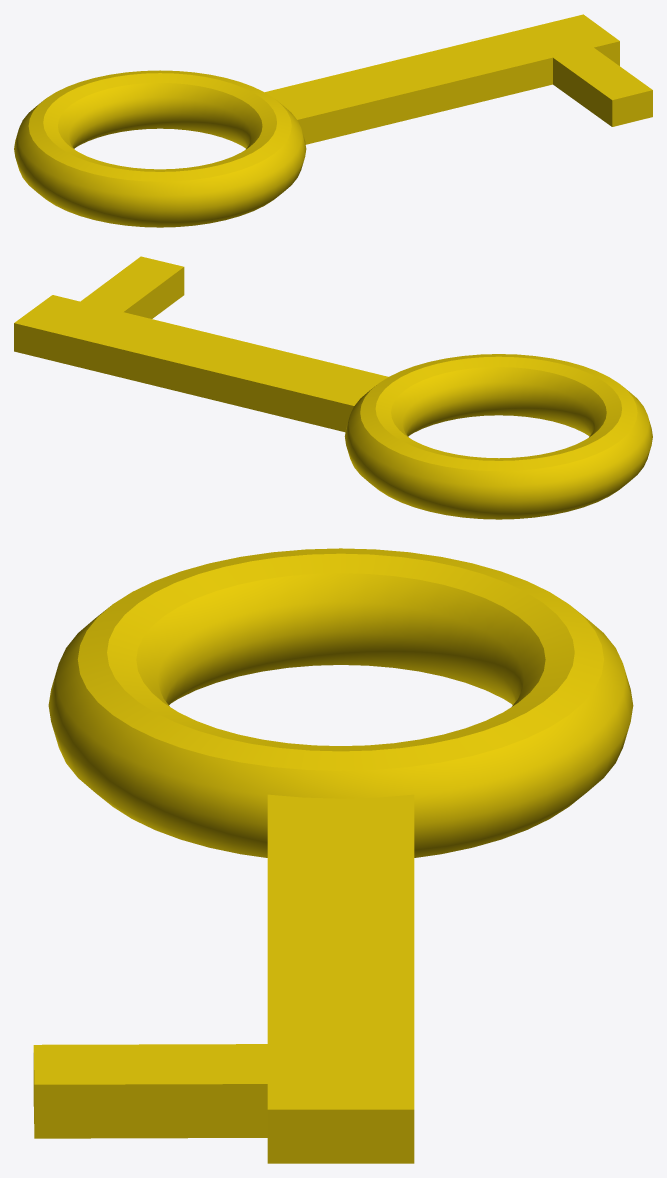
Rendered from llave3.glb.
3 views of the same model, one above another, from view 1: azimuth 30°, elevation 25°; view 2: azimuth 150°, elevation 25°; view 3: azimuth 270°, elevation 25° (orthographic). The views are drawn at different scales.
Parts seen in each view (by area): view 1: Torus; view 2: Torus; view 3: Torus.
Part boxes in pixels (bbox=[...]): Torus: bbox=[14, 14, 652, 227]; Torus: bbox=[14, 256, 652, 519]; Torus: bbox=[33, 548, 633, 1163].
Size of the model in its own units: 1.82 by 0.1618 by 0.8294.
